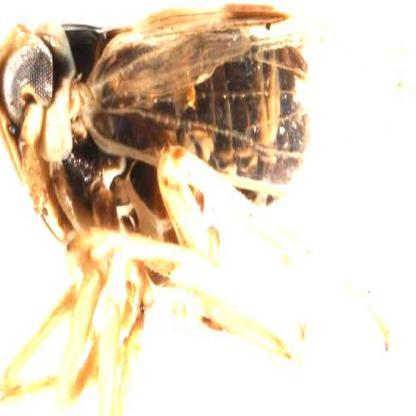brown-planthopper: (0, 11, 393, 341)
